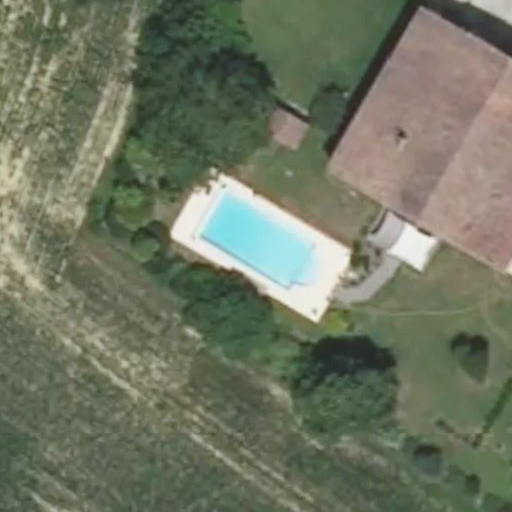pool: (190, 238, 333, 254)
